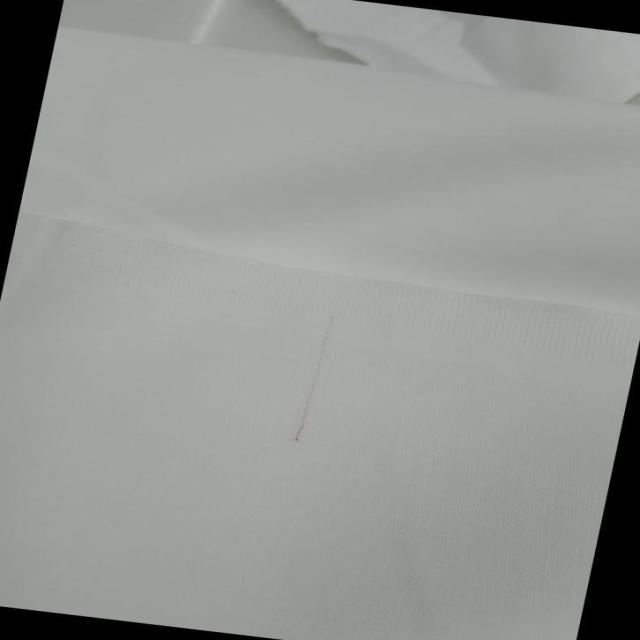contamination: (284, 305, 346, 449)
